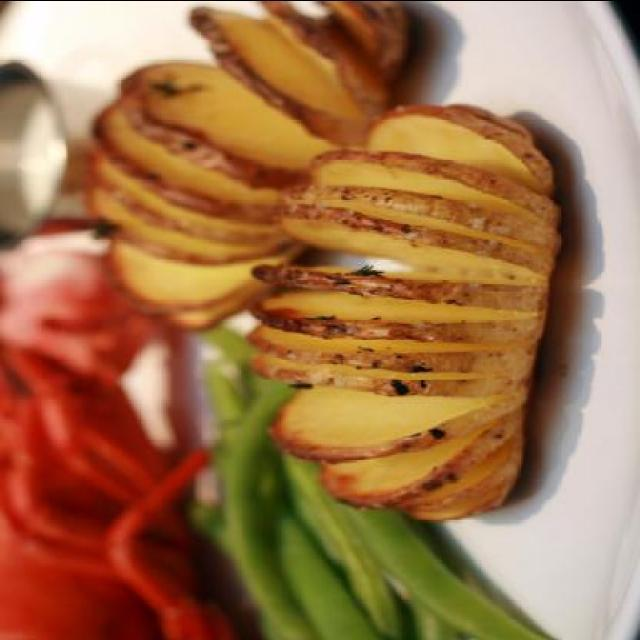Potato: (248, 104, 562, 522), (80, 0, 408, 333)
